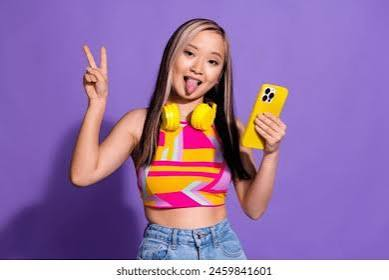peace_sign: (76, 38, 111, 101)
